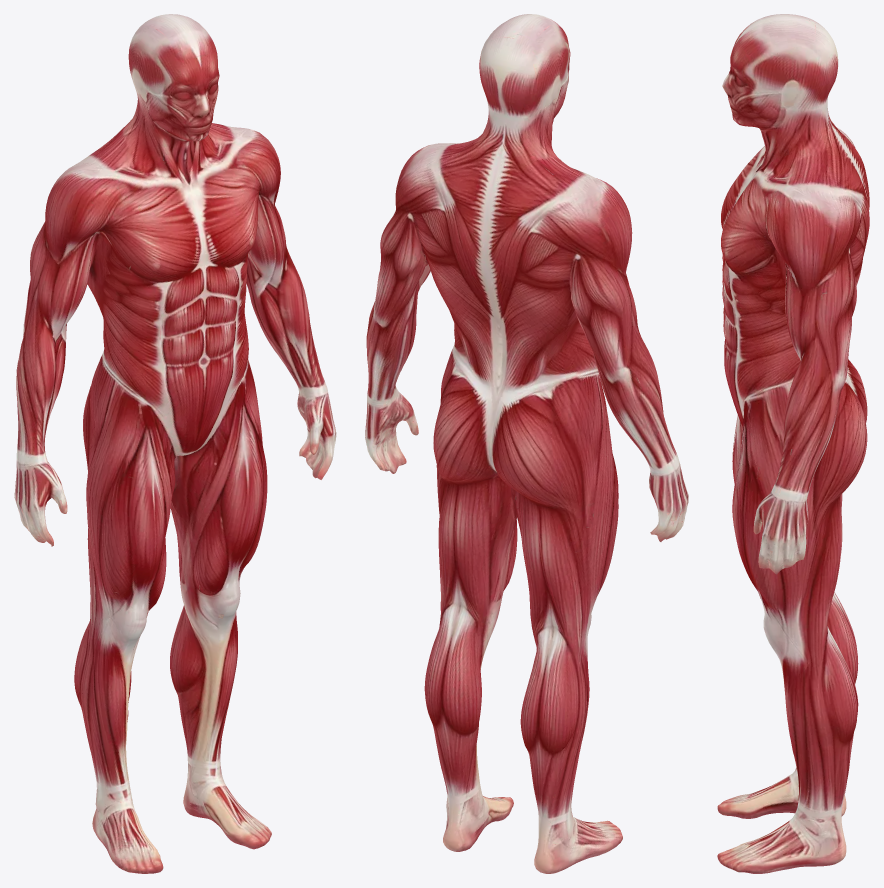
File: muscles.glb
3 renders of one model, left to right at view 1: azimuth 30°, elevation 25°; view 2: azimuth 150°, elevation 25°; view 3: azimuth 270°, elevation 25°, orthographic.
Visible parts, largest first — view 1: Mesh0; view 2: Mesh0; view 3: Mesh0.
Boxes of the visible parts, x1=… form: Mesh0: x1=14, y1=14, x2=336, y2=873; Mesh0: x1=365, y1=14, x2=688, y2=873; Mesh0: x1=717, y1=14, x2=869, y2=873.
Bounding box in the file's own units: 0.7618 × 1.91 × 0.3201.
Materials: 1 (1 with a texture image).
